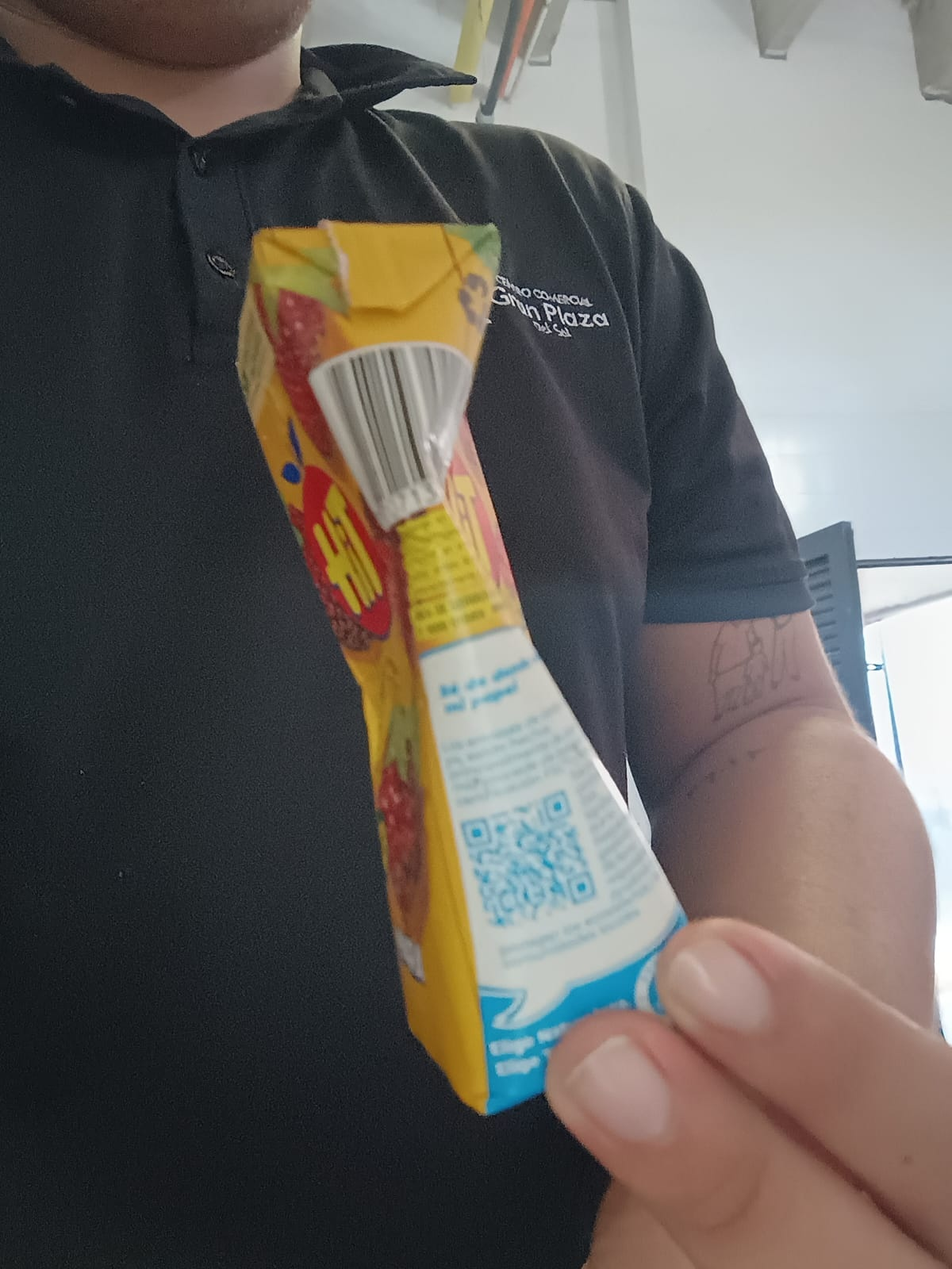Carton: (237, 223, 699, 1119)
